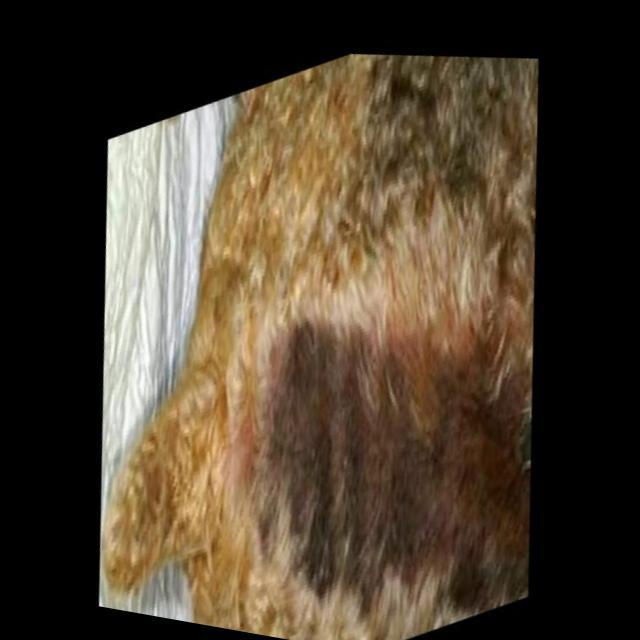allergic dermatitis: (262, 322, 535, 602)
